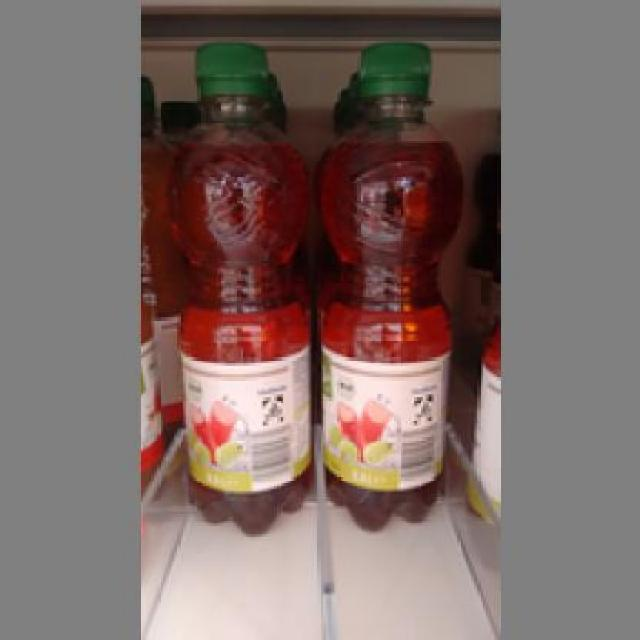Soda: (158, 39, 312, 535), (314, 36, 460, 532)
